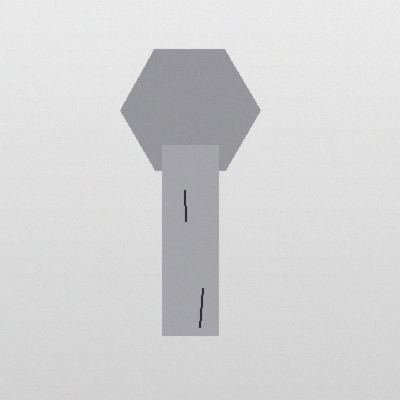scratch: (193, 284, 208, 331), (178, 186, 191, 225)
